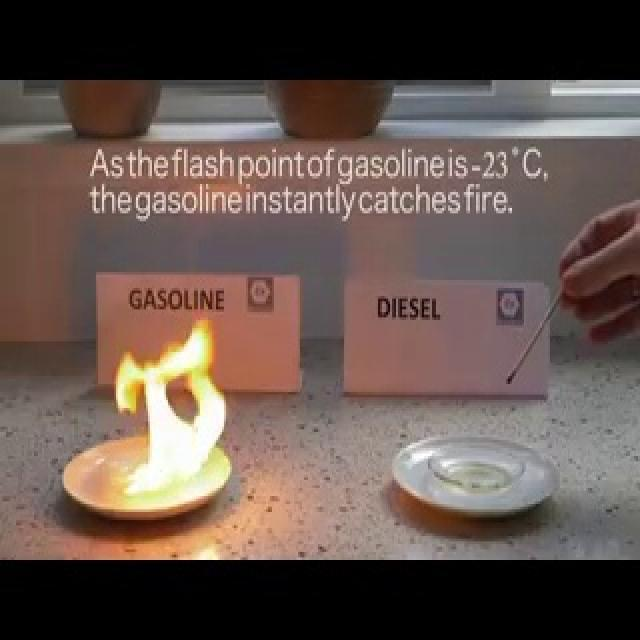fire: (108, 313, 232, 499)
